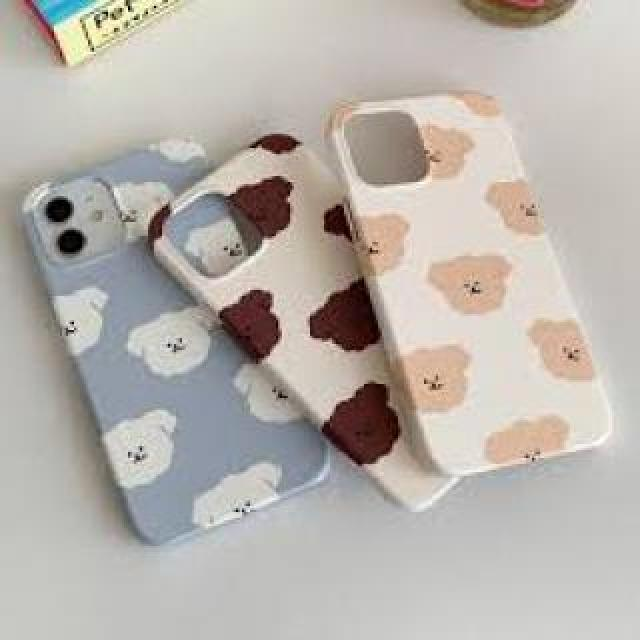smart phone: (17, 135, 285, 565)
